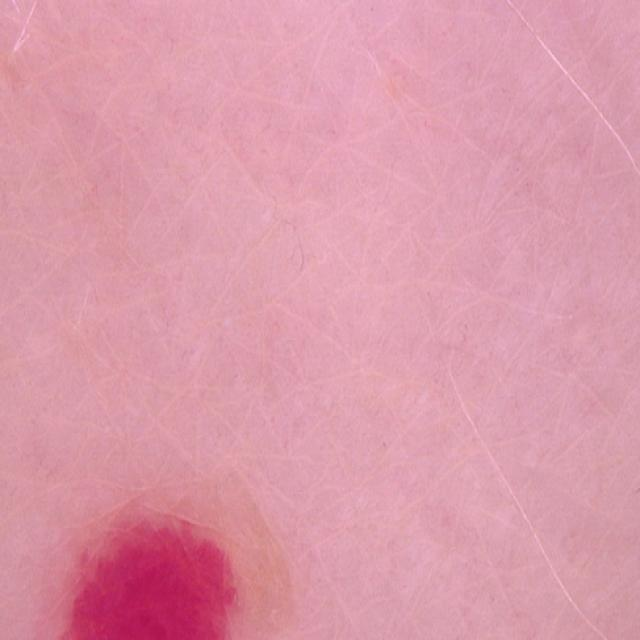Vascular Lesions: (9, 465, 312, 640)
